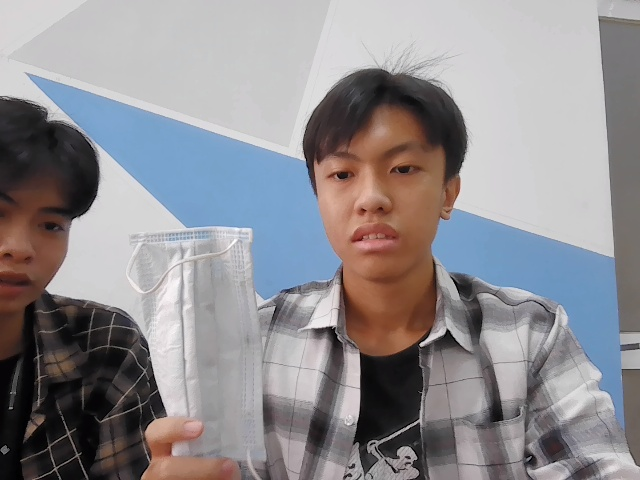human: (299, 61, 463, 277), (1, 95, 95, 318)
mask: (128, 231, 270, 463)
